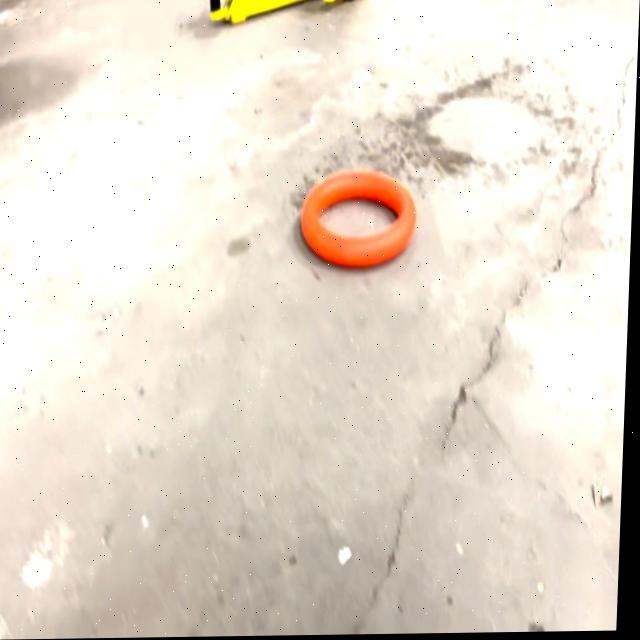note: (301, 173, 416, 271)
